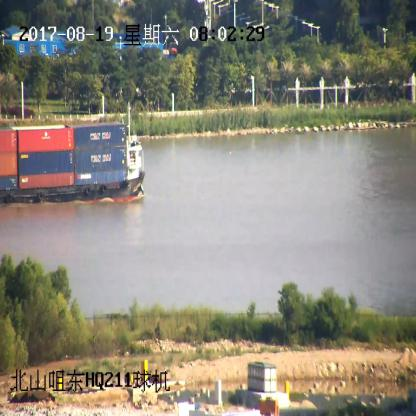Container Ship: (0, 109, 146, 204)
